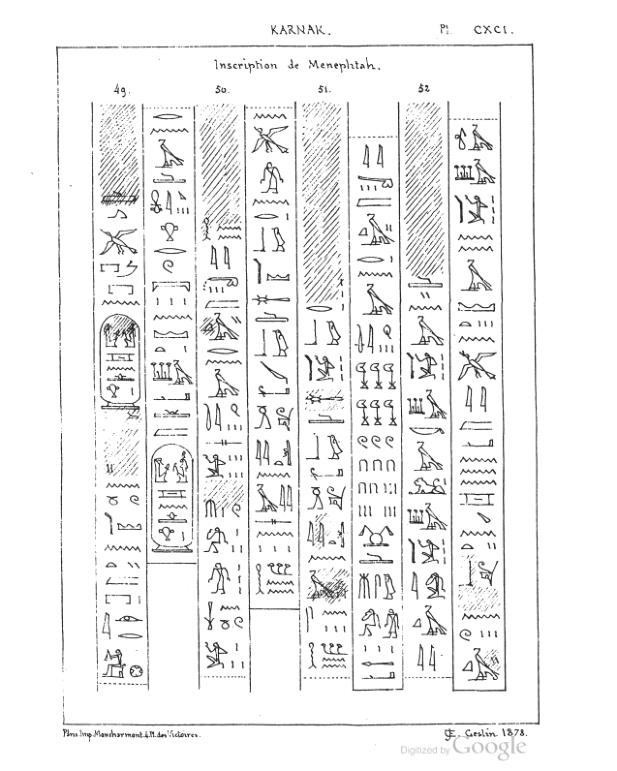circle: (148, 443, 195, 555), (96, 310, 142, 413)
